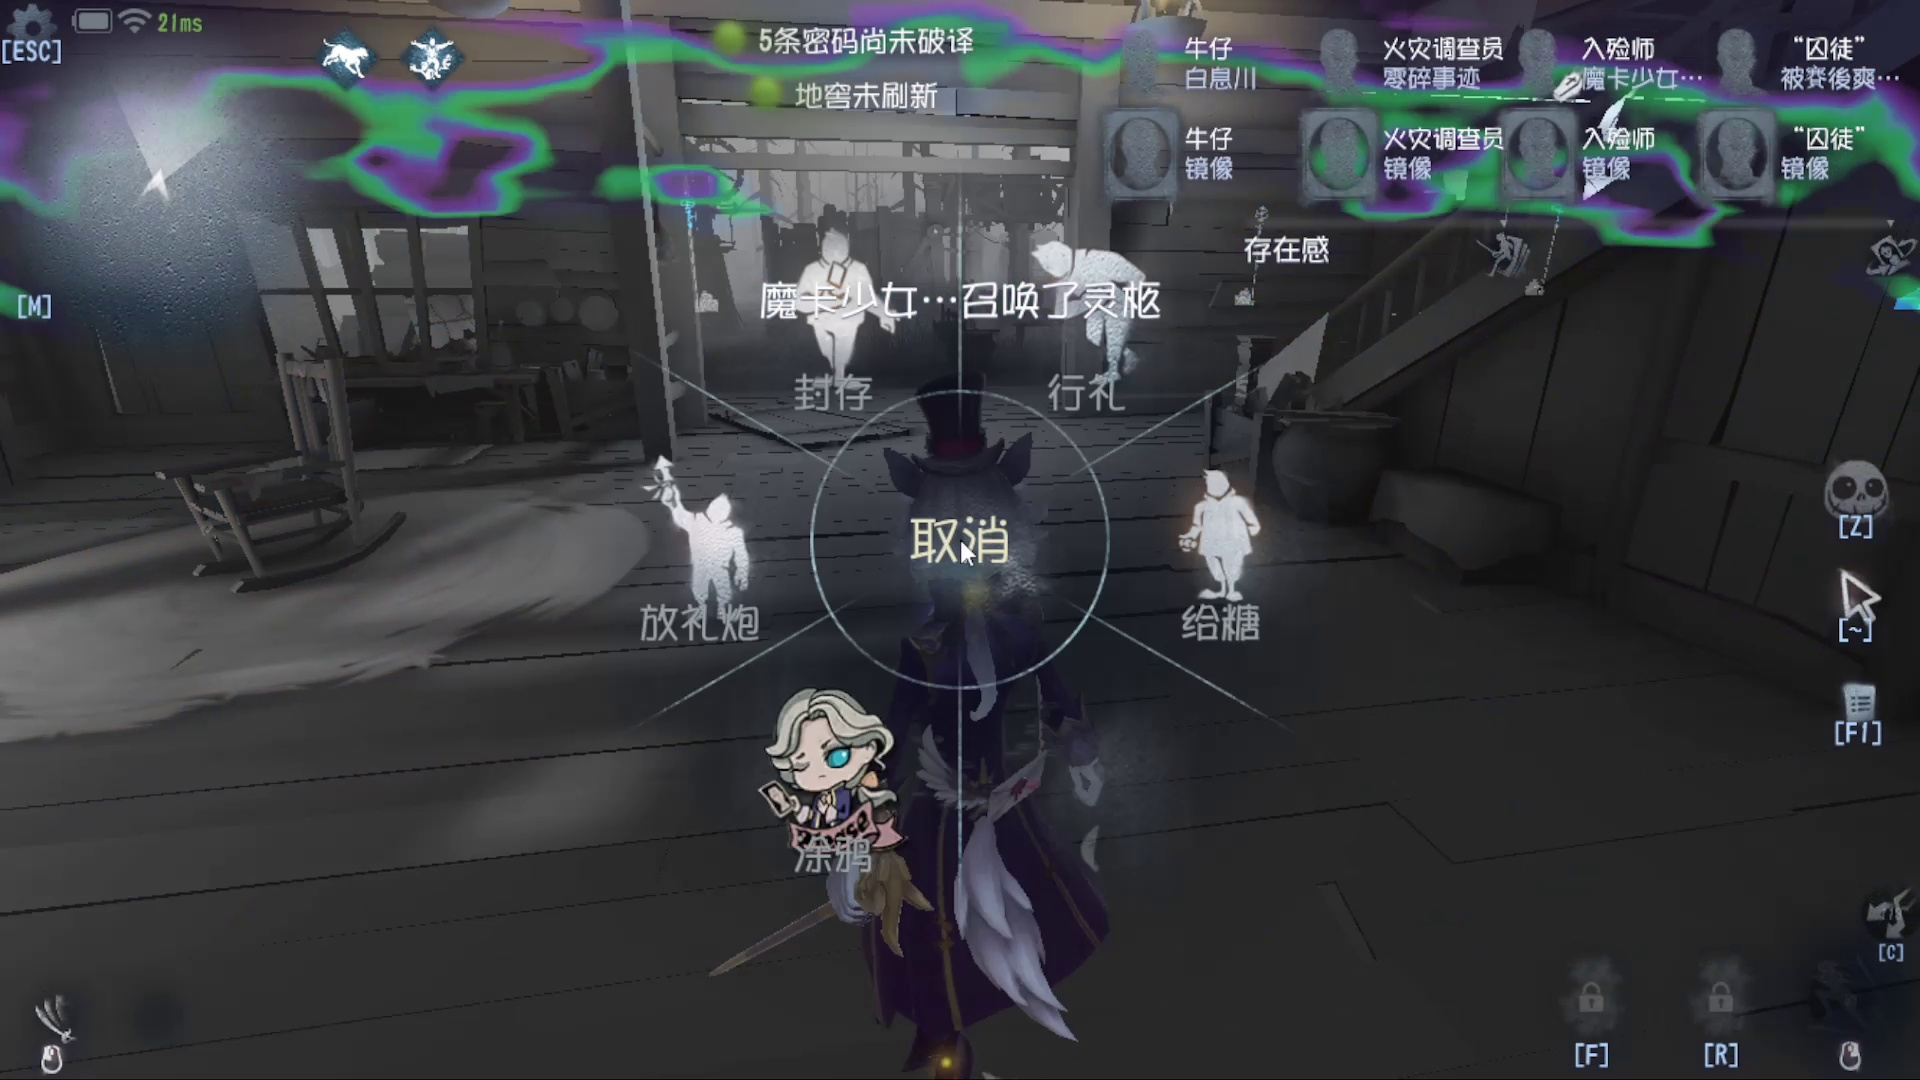密码机: (1225, 199, 1282, 326)
